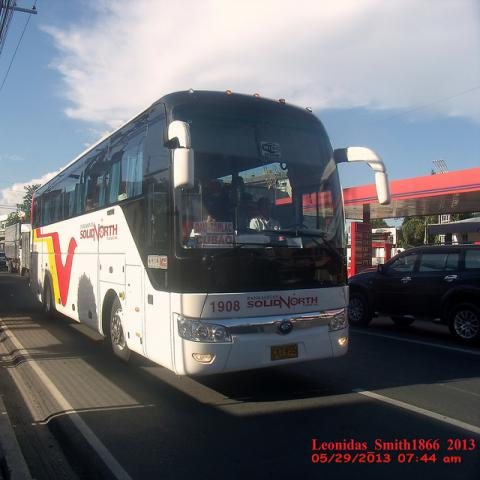bus: (30, 90, 390, 376)
car: (349, 252, 479, 340)
